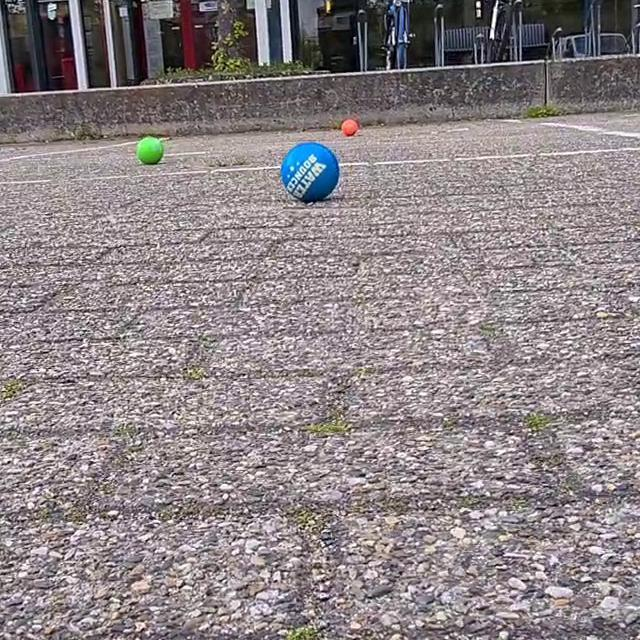ball: (135, 133, 165, 167), (338, 115, 362, 138)
